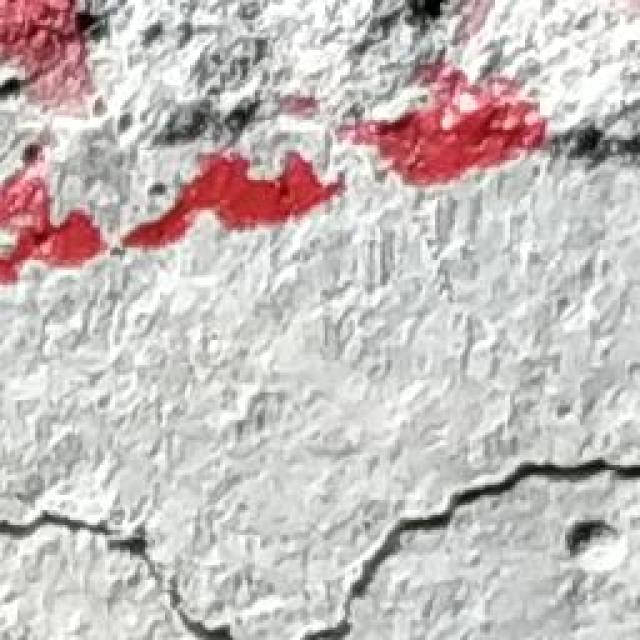Rippled: (0, 0, 640, 418)
Transverse: (0, 457, 640, 640)
